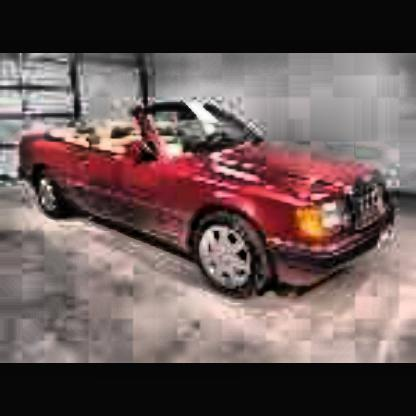Mercedes-Benz 300-Class Convertible 1993: (13, 94, 406, 310)
